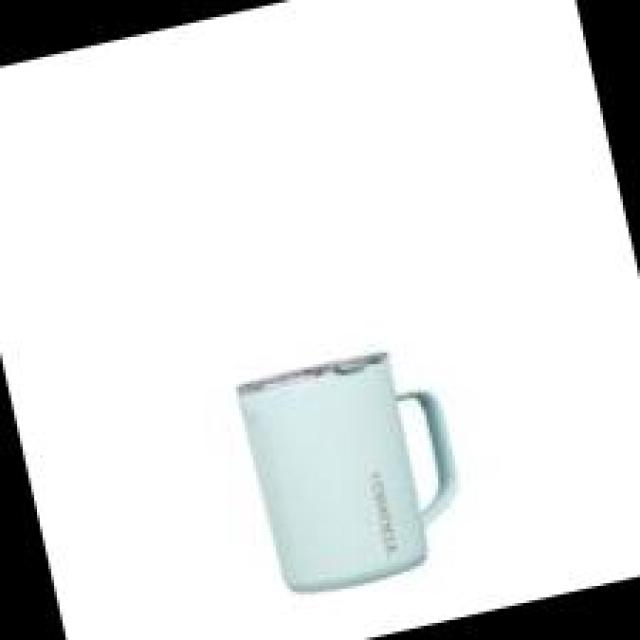bottle: (233, 340, 478, 602)
